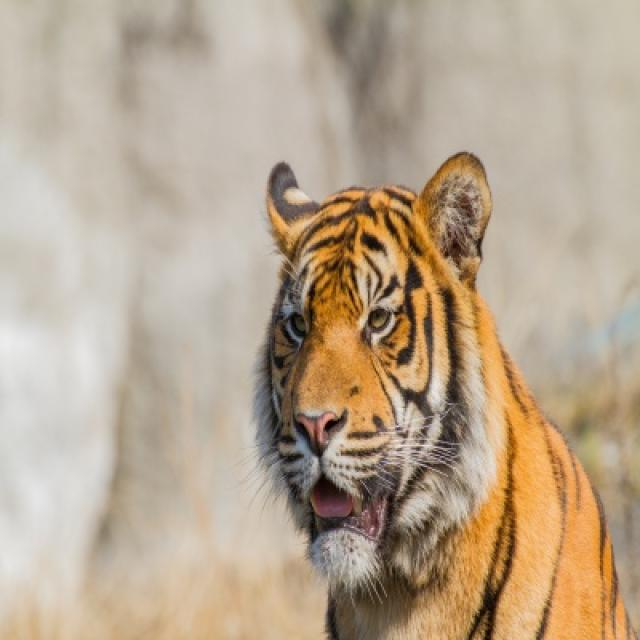Tiger: (255, 153, 638, 638)
